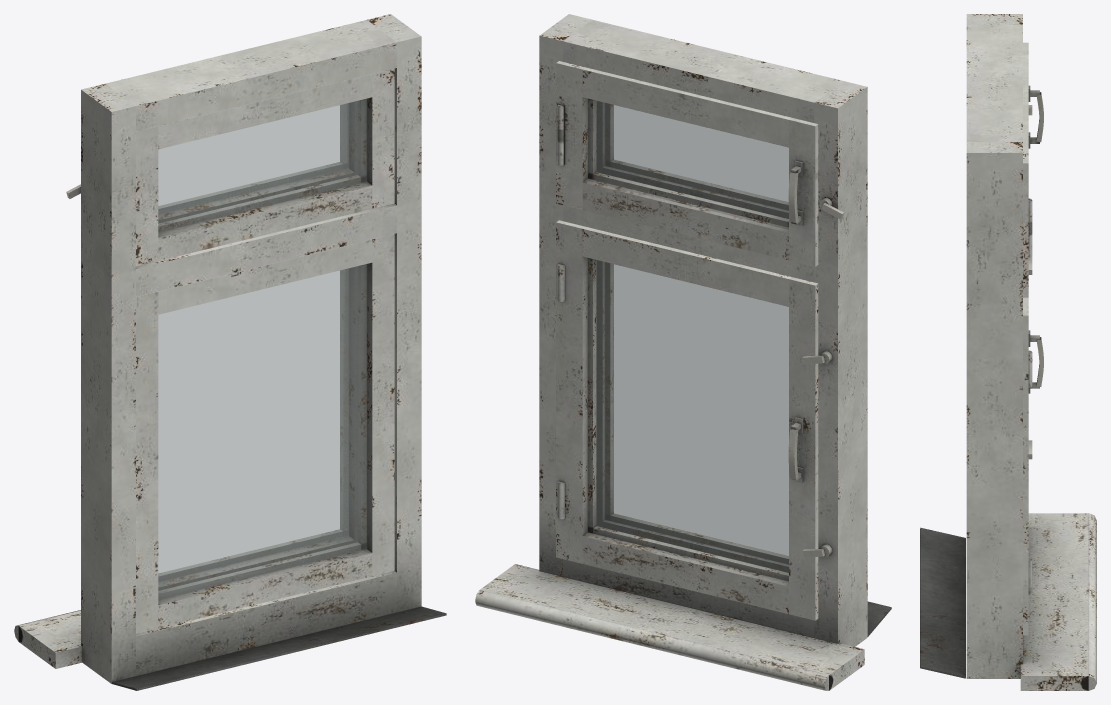
Rendered from win_1_small_web.glb.
3 views of the same model, side by side, from view 1: azimuth 30°, elevation 25°; view 2: azimuth 150°, elevation 25°; view 3: azimuth 270°, elevation 25° (orthographic). The views are drawn at different scales.
Visible parts, largest first — view 1: Win1Small_Body, Glass_Sash_C_out, Glass_Sash_C_in, Sash_C_Mesh, Fort_C_Mesh, Glass_Fort_C_out, Glass_Fort_C_in; view 2: Win1Small_Body, Glass_Sash_C_in, Sash_C_Mesh, Glass_Sash_C_out, Fort_C_Mesh, Glass_Fort_C_in, Glass_Fort_C_out; view 3: Win1Small_Body, Sash_C_Mesh, Fort_C_Mesh.
Part boxes in pixels (<box>): Win1Small_Body: <box>14,14,446,690</box>; Glass_Sash_C_out: <box>158,264,366,599</box>; Glass_Sash_C_in: <box>158,269,348,576</box>; Sash_C_Mesh: <box>136,234,394,633</box>; Fort_C_Mesh: <box>136,68,394,266</box>; Glass_Fort_C_out: <box>158,99,366,231</box>; Glass_Fort_C_in: <box>158,104,348,213</box>; Win1Small_Body: <box>475,14,891,690</box>; Glass_Sash_C_in: <box>596,260,788,572</box>; Sash_C_Mesh: <box>556,220,818,620</box>; Glass_Sash_C_out: <box>613,264,788,555</box>; Fort_C_Mesh: <box>556,61,818,266</box>; Glass_Fort_C_in: <box>596,101,788,218</box>; Glass_Fort_C_out: <box>613,105,788,201</box>; Win1Small_Body: <box>920,14,1096,690</box>; Sash_C_Mesh: <box>1023,297,1043,635</box>; Fort_C_Mesh: <box>1023,42,1043,297</box>.
Bounding box in the file's own units: 0.82 × 1.24 × 0.3765.
2 materials, 1 textured.
